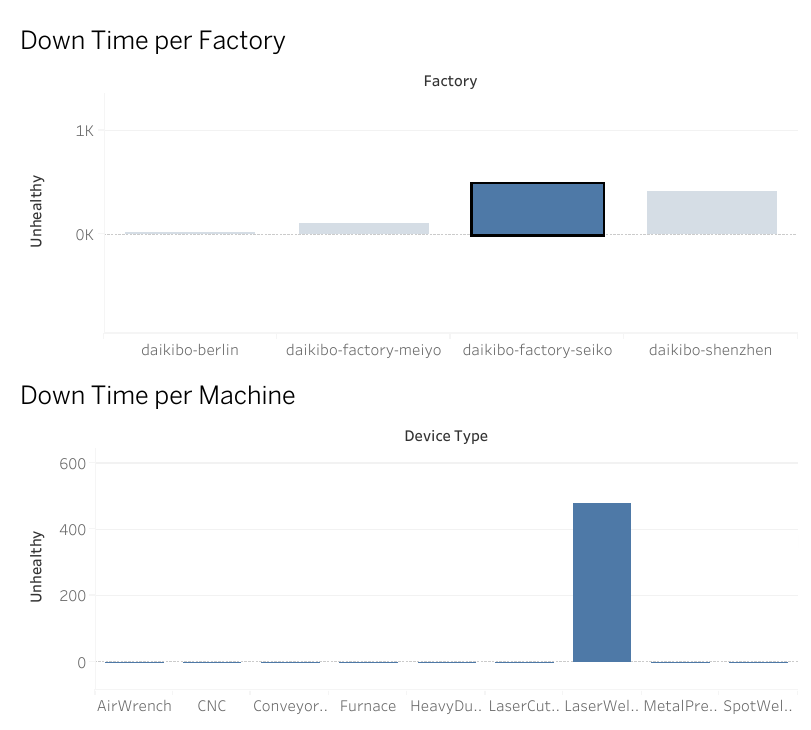

The dashboard page shown, as its layout file describes it:
{"tool":"tableau","page":{"name":"Dashboard 1","canvas":[650,860],"ordinal":0},"visuals":[{"type":"worksheet","title":"Sheet 1","mark":"Automatic","rows":["Calculation_1025041893486593"],"cols":["factory"],"box":[8,8.6,634,421.4]},{"type":"worksheet","title":"Sheet 2","mark":"Automatic","rows":["Calculation_1025041893486593"],"cols":["deviceType"],"box":[8,430,634,421.5]}]}

Visuals, with their boxes on the page's 650x860 design canvas (x1, y1, x2, y2). These are canvas units, not pixel positions in the 811x730 screenshot, which may show the page scaled, cropped or inside an application window:
"Sheet 1" worksheet: rect(8, 9, 642, 430)
"Sheet 2" worksheet: rect(8, 430, 642, 852)
